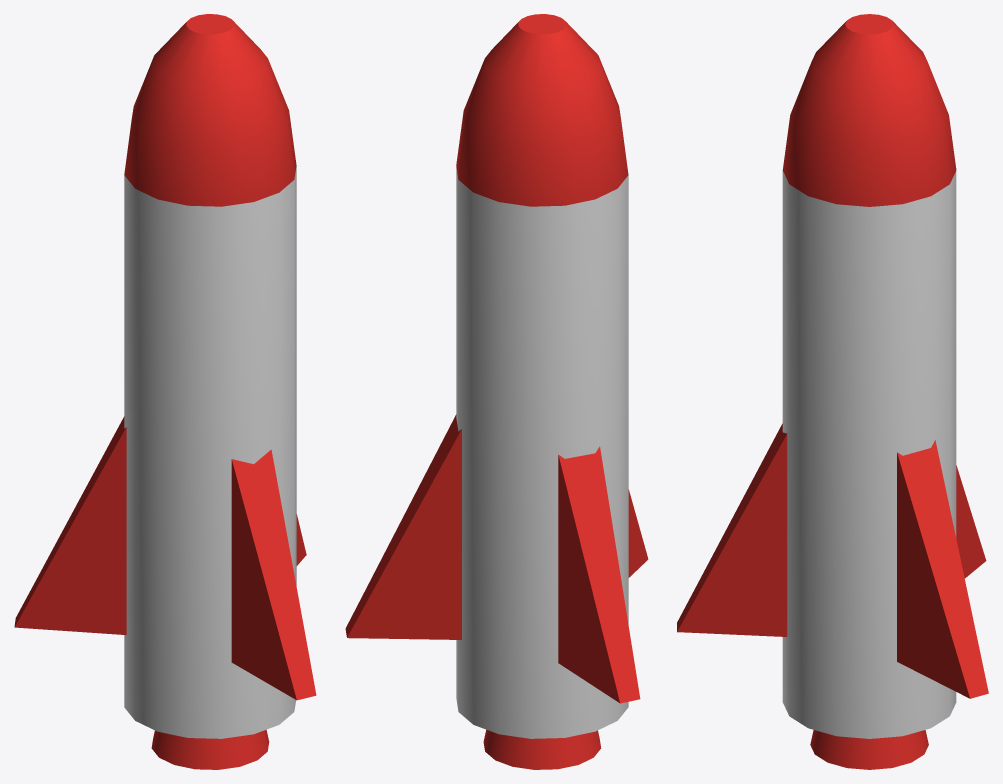
The model's file is Missle.fbx.
The picture shows the model from 3 angles, left to right: view 1: azimuth 30°, elevation 25°; view 2: azimuth 150°, elevation 25°; view 3: azimuth 270°, elevation 25°; orthographic projection.
Visible parts, largest first — view 1: Missle; view 2: Missle; view 3: Missle.
Boxes of the visible parts, x1=… form: Missle: x1=14, y1=14, x2=316, y2=769; Missle: x1=345, y1=14, x2=648, y2=769; Missle: x1=677, y1=14, x2=988, y2=769.
Bounding box in the file's own units: 3.9 × 9.15 × 3.59.
